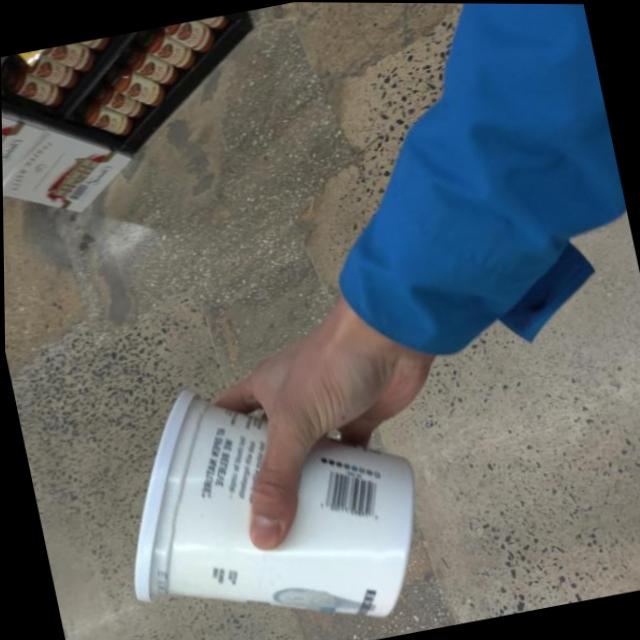Yogurt: (93, 348, 438, 640)
